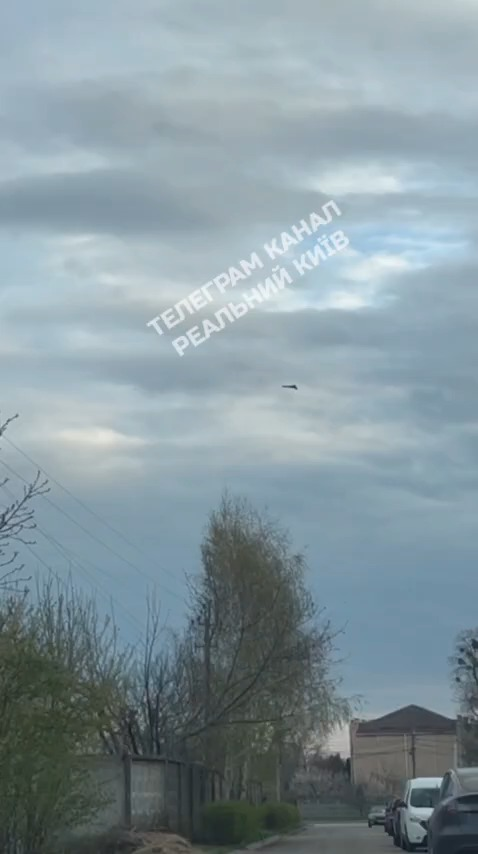shahed: (280, 382, 302, 394)
